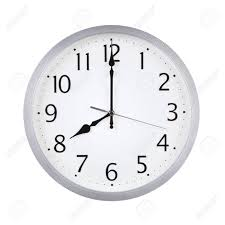alarm_clock: (19, 26, 200, 198), (27, 26, 206, 198), (27, 26, 200, 198)
